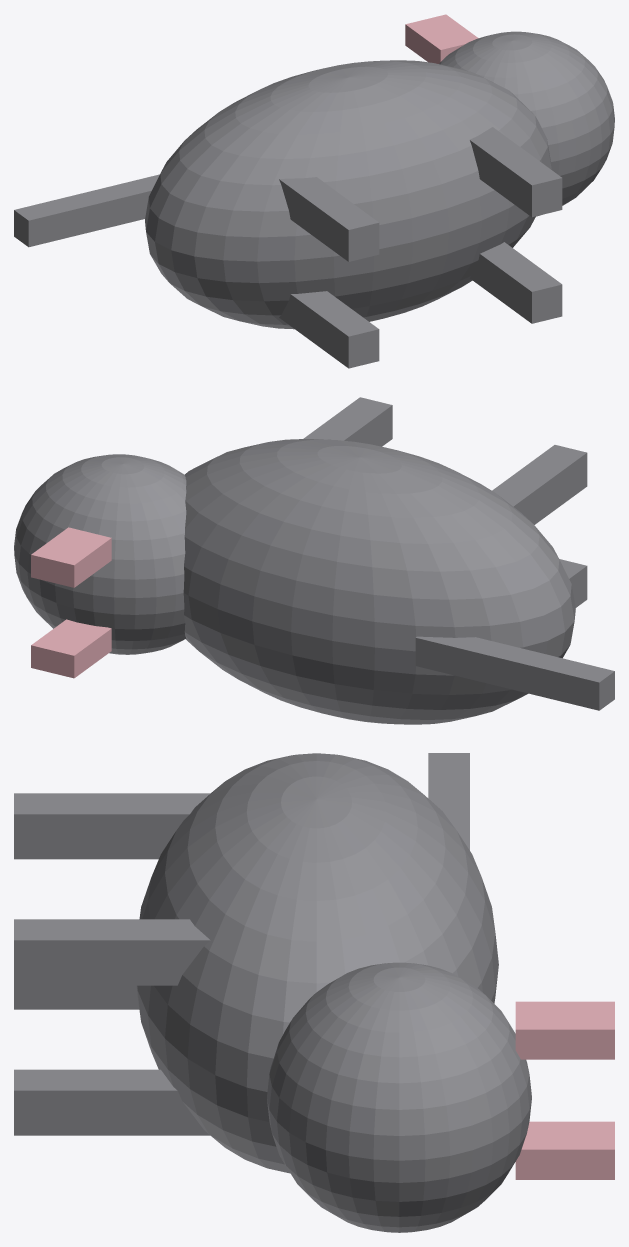
Rendered from town-cat.glb.
The picture shows the model from 3 angles, top to bottom: view 1: azimuth 30°, elevation 25°; view 2: azimuth 150°, elevation 25°; view 3: azimuth 270°, elevation 25°; orthographic projection. The views are drawn at different scales.
Parts seen in each view (by area): view 1: Body, Head, Tail, Leg.001, Leg.003, Leg, Leg.002, Right Ear; view 2: Body, Head, Tail, Leg.001, Right Ear, Left Ear, Leg.003, Leg; view 3: Body, Head, Leg.003, Leg.002, Leg.001, Right Ear, Left Ear, Leg, Tail.
Boxes of the visible parts, x1,y1,x2,y2 form: Body: (145, 60, 551, 329); Head: (439, 31, 614, 216); Tail: (14, 174, 159, 247); Leg.001: (279, 177, 379, 261); Leg.003: (470, 127, 562, 217); Leg: (279, 291, 379, 368); Leg.002: (470, 242, 562, 323); Right Ear: (405, 14, 478, 63); Body: (183, 439, 575, 724); Head: (14, 454, 186, 654); Tail: (415, 636, 614, 710); Leg.001: (492, 445, 587, 524); Right Ear: (31, 527, 111, 587); Left Ear: (31, 619, 111, 678); Leg.003: (303, 397, 392, 446); Leg: (559, 559, 587, 607); Body: (136, 753, 498, 1173); Head: (267, 962, 531, 1232); Leg.003: (14, 919, 210, 985); Leg.002: (14, 1069, 209, 1135); Leg.001: (14, 793, 210, 859); Right Ear: (515, 1001, 614, 1059); Left Ear: (515, 1121, 614, 1179); Leg: (14, 985, 139, 1009); Tail: (428, 753, 469, 850).
Size of the model in its own units: 1.11 by 0.44 by 0.725.
